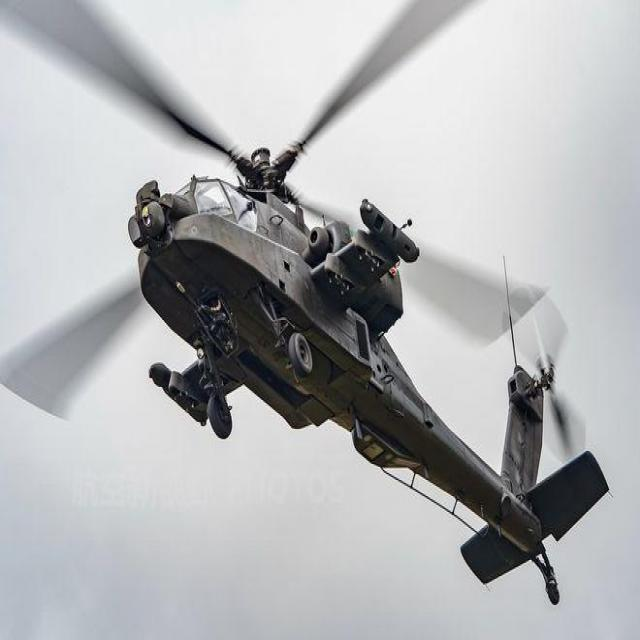MIL_HELO: (4, 0, 618, 605)
